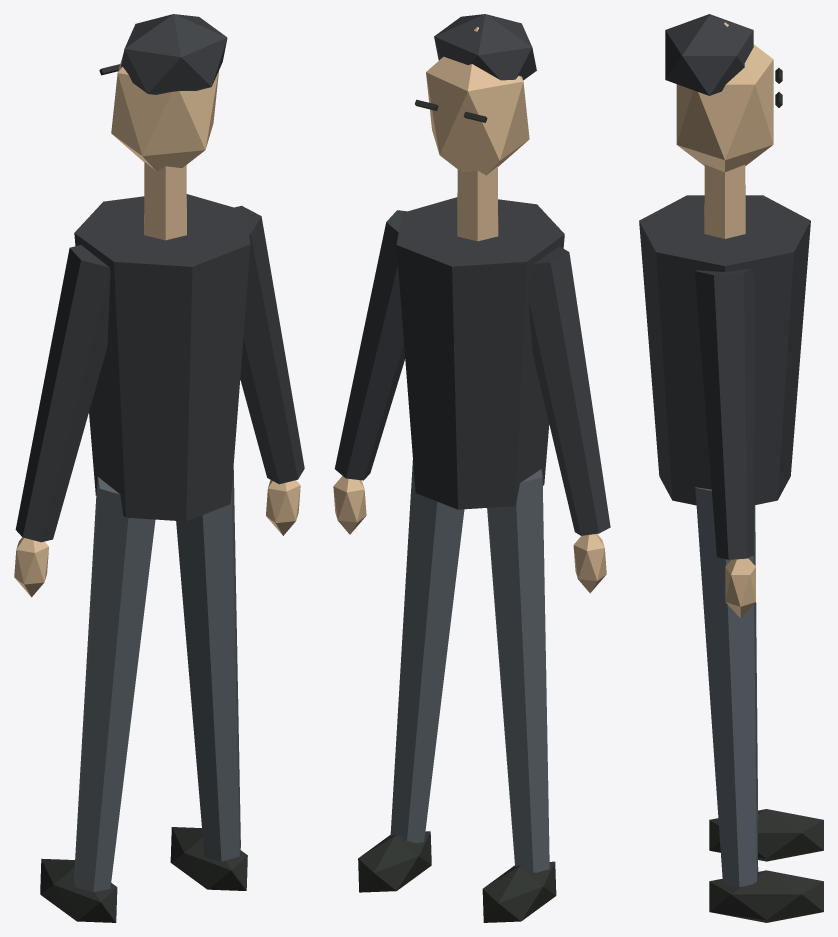
File: PlayerRemains.fbx
The picture shows the model from 3 angles, left to right: view 1: azimuth 30°, elevation 25°; view 2: azimuth 150°, elevation 25°; view 3: azimuth 270°, elevation 25°; orthographic projection. The views are drawn at different scales.
Parts seen in each view (by area): view 1: Body, Leg1, Leg-1, Sleeve1, Sleeve-1, Head, Hair, Boot1, Neck, Boot-1, Hand1, Hand-1; view 2: Body, Leg1, Leg-1, Sleeve1, Sleeve-1, Head, Hair, Boot1, Boot-1, Neck, Hand1, Hand-1; view 3: Body, Leg-1, Sleeve-1, Head, Hair, Boot-1, Boot1, Neck, Hand-1.
Part boxes in pixels (x1,y1,x2,y2): Body: (74, 194, 250, 521); Leg1: (74, 477, 155, 892); Leg-1: (176, 467, 240, 861); Sleeve1: (15, 245, 110, 542); Sleeve-1: (234, 205, 304, 484); Head: (111, 15, 218, 171); Hair: (121, 14, 227, 94); Boot1: (40, 858, 117, 922); Neck: (144, 162, 186, 240); Boot-1: (170, 827, 247, 890); Hand1: (14, 537, 48, 597); Hand-1: (266, 480, 300, 535); Body: (396, 197, 564, 509); Leg1: (487, 469, 549, 872); Leg-1: (390, 460, 464, 843); Sleeve1: (528, 246, 610, 535); Sleeve-1: (334, 210, 406, 480); Head: (426, 27, 529, 175); Hair: (434, 14, 536, 80); Boot1: (482, 861, 556, 922); Boot-1: (358, 831, 431, 892); Neck: (457, 166, 498, 241); Hand1: (573, 534, 606, 593); Hand-1: (333, 476, 366, 534); Body: (639, 195, 810, 505); Leg-1: (695, 487, 758, 887); Sleeve-1: (695, 268, 755, 559); Head: (676, 22, 773, 172); Hair: (665, 14, 753, 95); Boot-1: (709, 870, 823, 922); Boot1: (709, 809, 823, 861); Neck: (704, 164, 745, 238); Hand-1: (725, 558, 755, 618).
Bounding box in the file's own units: 0.6062 × 1.87 × 0.3563.
